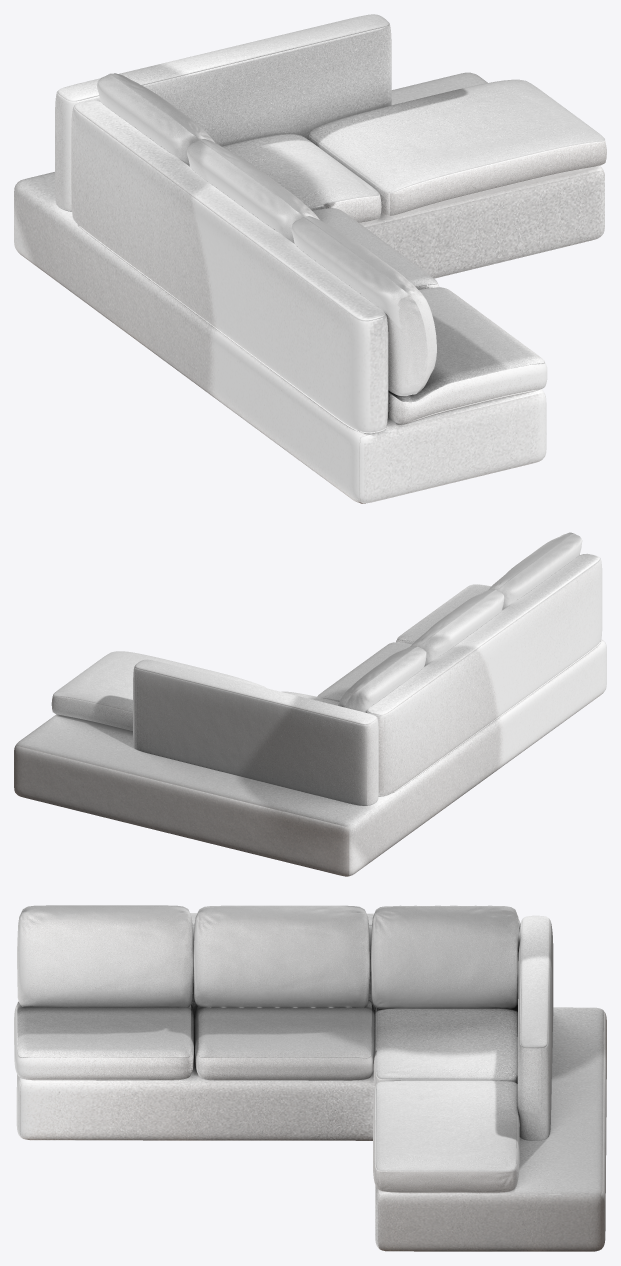
File: Sofa.gltf
3 renders of one model, top to bottom at view 1: azimuth 30°, elevation 25°; view 2: azimuth 150°, elevation 25°; view 3: azimuth 270°, elevation 25°, orthographic. The views are drawn at different scales.
Parts seen in each view (by area): view 1: Cube.009, Cube.010, Cube.003_0, Cube.007, Cube.002_0, Cube.013, Cube.014, Cube.015, Cube.012; view 2: Cube.009, Cube.010, Cube.007, Cube.003_0, Cube.013, Cube.015, Cube.012, Cube.002_0; view 3: Cube.009, Cube.002_0, Cube.015, Cube.013, Cube.003_0, Cube.012, Cube.014, Cube.007.
Part boxes in pixels (left/top/right/bottom): Cube.009: left=14, top=72, right=604, bottom=503; Cube.010: left=71, top=100, right=388, bottom=433; Cube.003_0: left=307, top=79, right=606, bottom=215; Cube.007: left=55, top=14, right=391, bottom=211; Cube.002_0: left=312, top=208, right=547, bottom=424; Cube.013: left=291, top=216, right=436, bottom=396; Cube.014: left=222, top=134, right=381, bottom=223; Cube.015: left=187, top=139, right=319, bottom=243; Cube.012: left=97, top=73, right=215, bottom=166; Cube.009: left=14, top=639, right=606, bottom=876; Cube.010: left=366, top=553, right=602, bottom=796; Cube.007: left=133, top=659, right=378, bottom=805; Cube.003_0: left=51, top=651, right=266, bottom=731; Cube.013: left=488, top=532, right=582, bottom=609; Cube.015: left=410, top=589, right=504, bottom=666; Cube.012: left=338, top=646, right=426, bottom=712; Cube.002_0: left=317, top=584, right=490, bottom=701; Cube.009: left=16, top=1007, right=606, bottom=1251; Cube.002_0: left=14, top=1001, right=374, bottom=1080; Cube.015: left=193, top=905, right=370, bottom=1007; Cube.013: left=17, top=905, right=193, bottom=1007; Cube.003_0: left=373, top=1080, right=519, bottom=1192; Cube.012: left=371, top=905, right=519, bottom=1009; Cube.014: left=373, top=1005, right=517, bottom=1087; Cube.007: left=517, top=915, right=553, bottom=1140.
Size of the model in its own units: 6.79 by 2.94 by 8.92.
Materials: 9 (9 with a texture image).
